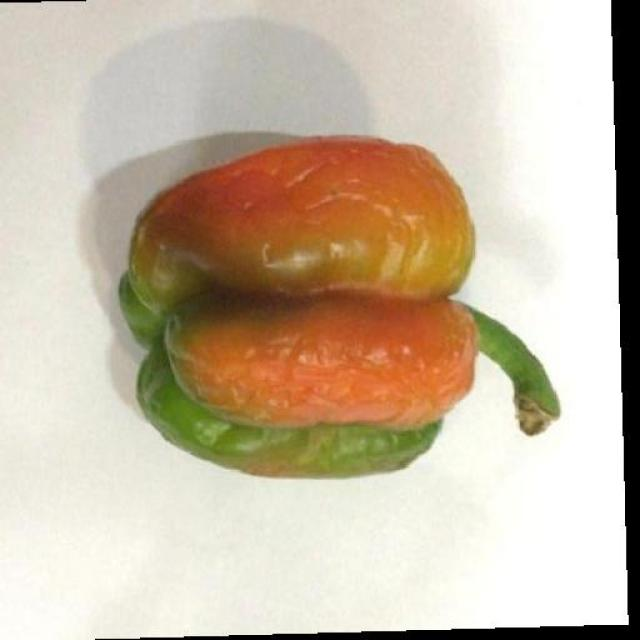Stale_Capsicum: (125, 121, 577, 535)
